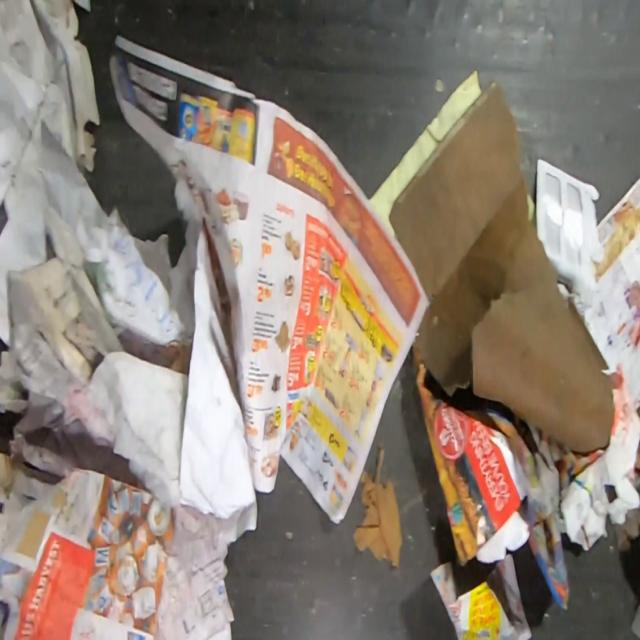cardboard: (414, 363, 533, 566)
